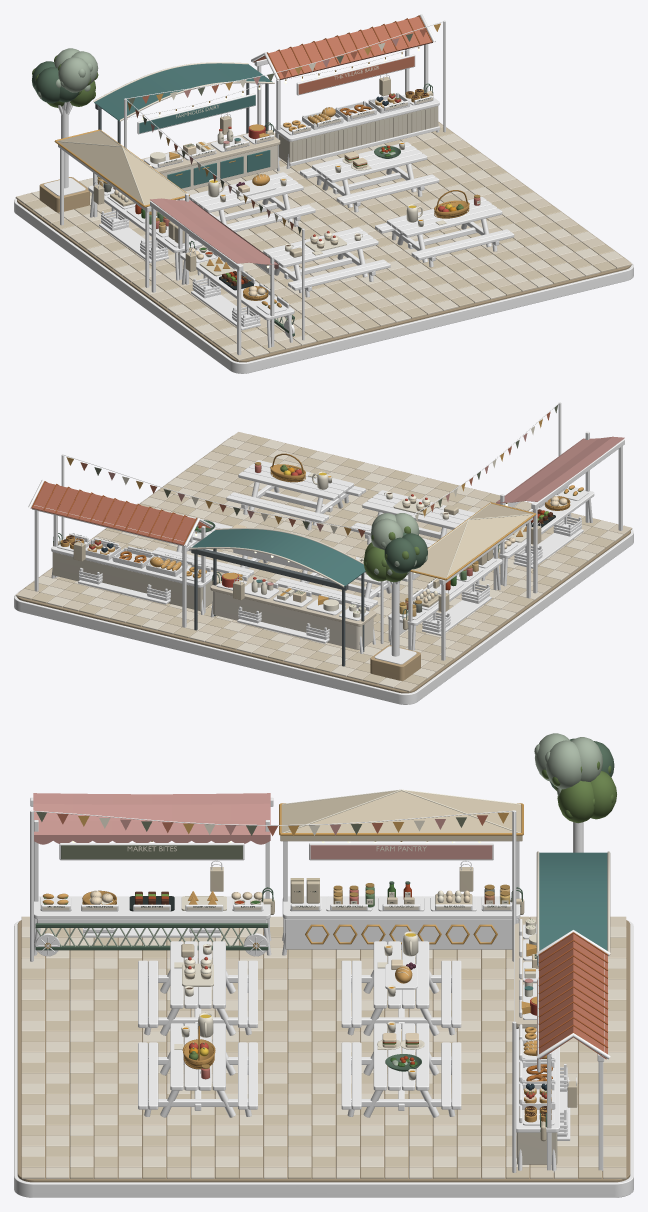
The model's file is farmers-market.glb.
3 renders of one model, top to bottom at view 1: azimuth 30°, elevation 25°; view 2: azimuth 150°, elevation 25°; view 3: azimuth 270°, elevation 25°, orthographic. The views are drawn at different scales.
Visible parts, largest first — view 1: Market square stone plinth export, THE VILLAGE BAKER pitched bakery roof export, FARM PANTRY peaked cream market tent export, FARMHOUSE DAIRY curved dairy canopy export, THE VILLAGE BAKER bakery painted counter export, Continuous limestone paving export, THE VILLAGE BAKER name painted face export, FARMHOUSE DAIRY name painted face export, THE VILLAGE BAKER produce counter rounded top export, FARMHOUSE DAIRY rounded dairy cabinet export, FARMHOUSE DAIRY produce counter rounded top export, MARKET BITES produce counter rounded top export (+17 smaller); view 2: Market square stone plinth export, THE VILLAGE BAKER pitched bakery roof export, FARMHOUSE DAIRY curved dairy canopy export, FARM PANTRY peaked cream market tent export, FARMHOUSE DAIRY rounded dairy cabinet export, THE VILLAGE BAKER bakery painted counter export, Continuous limestone paving export, FARMHOUSE DAIRY rear cross beam export, FARMHOUSE DAIRY produce counter rounded top export, Town tree planter export, THE VILLAGE BAKER produce counter rounded top export, Rounded tree foliage cluster.001 export (+17 smaller); view 3: Market square stone plinth export, Continuous limestone paving export, FARM PANTRY peaked cream market tent export, THE VILLAGE BAKER pitched bakery roof export, FARMHOUSE DAIRY curved dairy canopy export, FARM PANTRY honey kiosk oak front export, MARKET BITES produce counter rounded top export, FARM PANTRY name painted face export, MARKET BITES name painted face export, FARM PANTRY produce counter rounded top export, FARM PANTRY cream tent valance export, Rounded tree foliage cluster.005 export (+53 smaller).
Part boxes in pixels (x1=…): Market square stone plinth export: x1=14, y1=121, x2=633, y2=373; THE VILLAGE BAKER pitched bakery roof export: x1=253, y1=16, x2=432, y2=79; FARM PANTRY peaked cream market tent export: x1=58, y1=130, x2=185, y2=205; FARMHOUSE DAIRY curved dairy canopy export: x1=94, y1=63, x2=272, y2=121; THE VILLAGE BAKER bakery painted counter export: x1=275, y1=106, x2=438, y2=162; Continuous limestone paving export: x1=17, y1=122, x2=630, y2=362; THE VILLAGE BAKER name painted face export: x1=298, y1=56, x2=414, y2=94; FARMHOUSE DAIRY name painted face export: x1=139, y1=95, x2=255, y2=133; THE VILLAGE BAKER produce counter rounded top export: x1=274, y1=92, x2=439, y2=141; FARMHOUSE DAIRY rounded dairy cabinet export: x1=161, y1=145, x2=277, y2=191; FARMHOUSE DAIRY produce counter rounded top export: x1=141, y1=133, x2=280, y2=173; MARKET BITES produce counter rounded top export: x1=180, y1=249, x2=294, y2=320; Market square stone plinth export: x1=14, y1=436, x2=633, y2=704; THE VILLAGE BAKER pitched bakery roof export: x1=31, y1=482, x2=210, y2=545; FARMHOUSE DAIRY curved dairy canopy export: x1=191, y1=529, x2=365, y2=586; FARM PANTRY peaked cream market tent export: x1=411, y1=503, x2=532, y2=578; FARMHOUSE DAIRY rounded dairy cabinet export: x1=213, y1=591, x2=373, y2=649; THE VILLAGE BAKER bakery painted counter export: x1=52, y1=552, x2=212, y2=611; Continuous limestone paving export: x1=17, y1=435, x2=630, y2=693; FARMHOUSE DAIRY rear cross beam export: x1=191, y1=549, x2=348, y2=590; FARMHOUSE DAIRY produce counter rounded top export: x1=210, y1=579, x2=376, y2=626; Town tree planter export: x1=370, y1=645, x2=420, y2=681; THE VILLAGE BAKER produce counter rounded top export: x1=51, y1=537, x2=216, y2=587; Rounded tree foliage cluster.001 export: x1=384, y1=537, x2=416, y2=573; Market square stone plinth export: x1=14, y1=920, x2=633, y2=1197; Continuous limestone paving export: x1=17, y1=917, x2=630, y2=1182; FARM PANTRY peaked cream market tent export: x1=281, y1=791, x2=521, y2=832; THE VILLAGE BAKER pitched bakery roof export: x1=539, y1=933, x2=607, y2=1059; FARMHOUSE DAIRY curved dairy canopy export: x1=539, y1=852, x2=607, y2=950; FARM PANTRY honey kiosk oak front export: x1=285, y1=919, x2=517, y2=949; MARKET BITES produce counter rounded top export: x1=34, y1=896, x2=270, y2=919; FARM PANTRY name painted face export: x1=310, y1=845, x2=492, y2=859; MARKET BITES name painted face export: x1=61, y1=845, x2=242, y2=859; FARM PANTRY produce counter rounded top export: x1=282, y1=896, x2=520, y2=919; FARM PANTRY cream tent valance export: x1=280, y1=835, x2=522, y2=841; Rounded tree foliage cluster.005 export: x1=545, y1=740, x2=581, y2=789.
Bounding box in the file's own units: 13 × 5.04 × 12.8.
